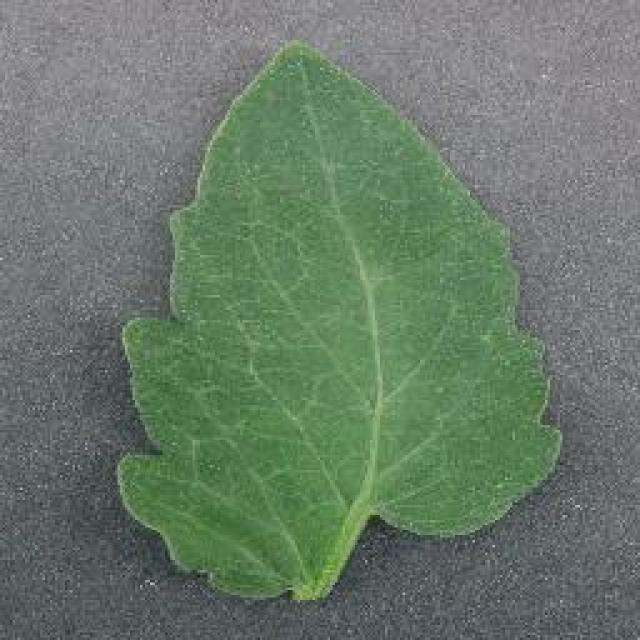Tomato_Healthy: (90, 29, 583, 601)
